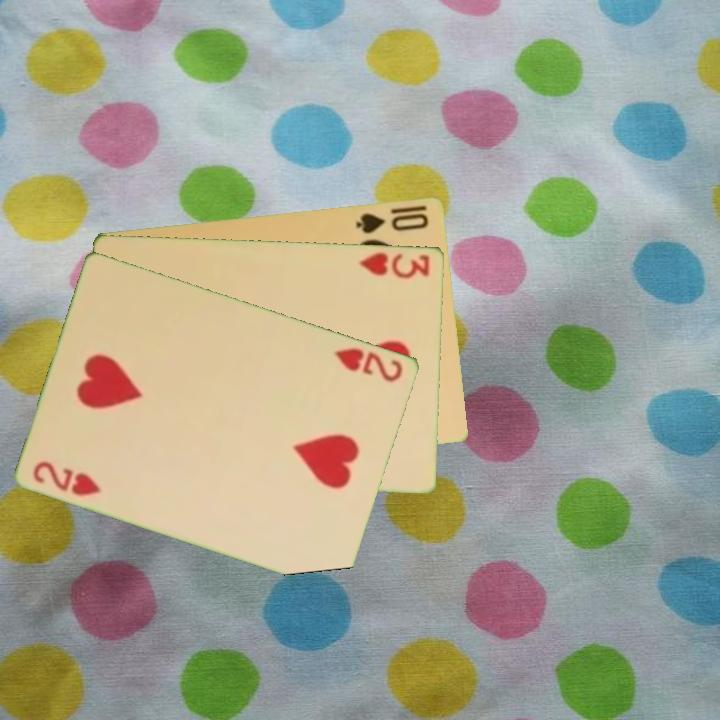10s: (352, 209, 432, 236)
2h: (330, 344, 407, 385), (30, 457, 104, 499)
3h: (356, 248, 433, 281)
